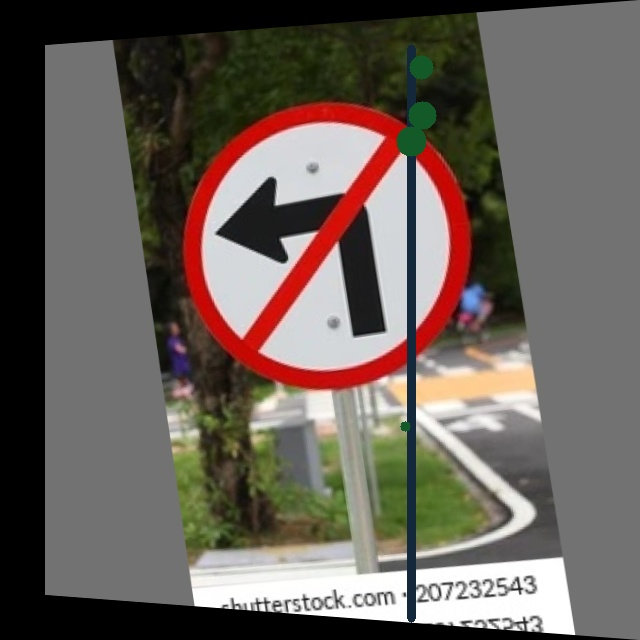Left_Turn_Prohibited: (164, 70, 496, 416)
